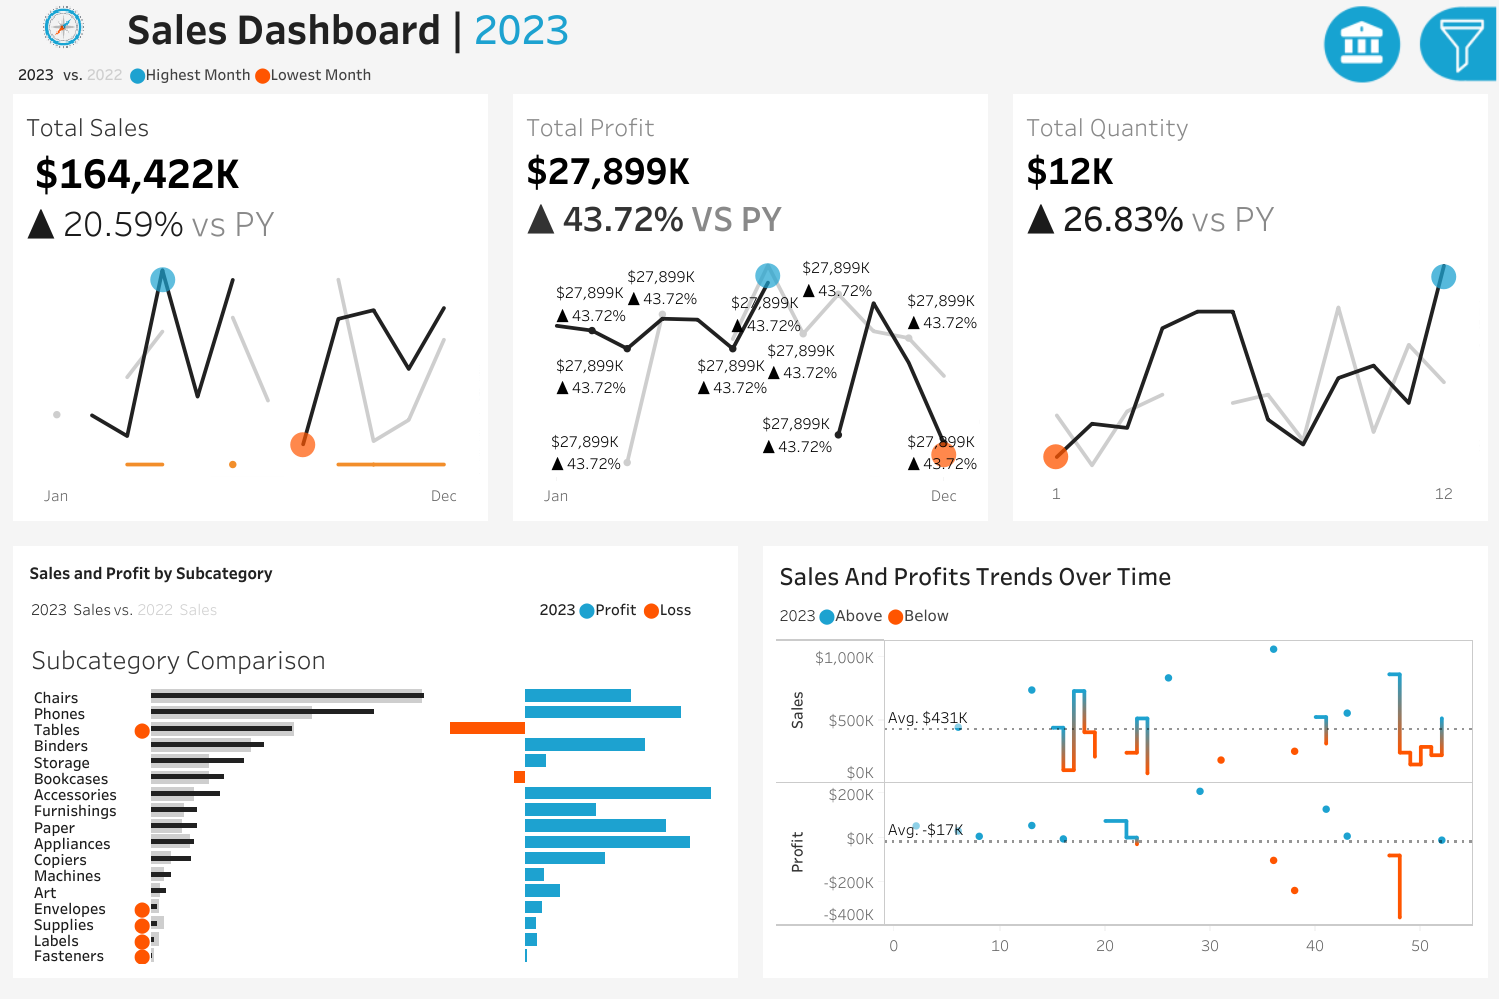

Layout of this report page (visuals, bound fields, positions):
{"tool":"tableau","page":{"name":"Sales Dashboard","canvas":[1200,800],"ordinal":0},"visuals":[{"type":"image","param":"Image/Icon - Logo.png","box":[6,0,89,43]},{"type":"text","box":[95,0,1105,43]},{"type":"dashboard-object","box":[1054,0,71,71]},{"type":"blank","box":[992,11,206,63]},{"type":"worksheet","title":"Legend KPI","mark":"Automatic","box":[6,43,1194,31.5]},{"type":"text","box":[992,74,206,63]},{"type":"worksheet","title":"KPI for total_sales","mark":"Automatic","rows":["Calculation_810647934035357708"],"cols":["Order Date"],"box":[0,75,400,352]},{"type":"worksheet","title":"KPI for total_profit","mark":"Automatic","rows":["Calculation_810647934354657306"],"cols":["Order Date"],"box":[400,75,400,352]},{"type":"worksheet","title":"KPI for total_quantity","mark":"Line","rows":["Calculation_810647934377652257"],"cols":["Order Date"],"box":[800,75,400,352]},{"type":"parameter","param":"[Parameters].[Parameter 1]","box":[992,137,206,63]},{"type":"blank","box":[992,200,206,63]},{"type":"text","box":[992,263,206,63]},{"type":"filter","title":"KPI for total_sales","param":"[federated.0kixfwr1o70lx01gtnfjl1a0li92].[none:Category:nk]","box":[992,326,206,63]},{"type":"filter","title":"KPI for total_sales","param":"[federated.0kixfwr1o70lx01gtnfjl1a0li92].[none:Sub-Category:nk]","box":[992,389,206,63]},{"type":"text","box":[17,444,566,31]},{"type":"text","box":[617,444,566,32]},{"type":"blank","box":[992,452,206,63]},{"type":"worksheet","title":"Legend Subcategory","mark":"Automatic","box":[17,475,408,32]},{"type":"text","box":[425,475,158,32]},{"type":"text","box":[617,476,566,32]},{"type":"worksheet","title":"Subcategory Comparison","mark":"Bar","rows":["Sub-Category","Calculation_810647934389022755"],"cols":["CYSales (copy)_810647934028398601","Calculation_810647934027689992","Calculation_810647934348013590"],"box":[17,507,566,267.9]},{"type":"worksheet","title":"Weekly Trends","mark":"Automatic","rows":["Calculation_810647934027689992","Calculation_810647934348013590"],"cols":["Order Date"],"box":[617,508,566,267]},{"type":"text","box":[992,515,206,63]},{"type":"filter","title":"KPI for total_sales","param":"[federated.0kixfwr1o70lx01gtnfjl1a0li92].[none:Region:nk]","box":[992,578,206,63]},{"type":"filter","title":"KPI for total_sales","param":"[federated.0kixfwr1o70lx01gtnfjl1a0li92].[none:State:nk]","box":[992,641,206,62]},{"type":"filter","title":"KPI for total_sales","param":"[federated.0kixfwr1o70lx01gtnfjl1a0li92].[none:City:nk]","box":[992,703,206,62]}]}

Visuals, with their boxes in screenshot pixels (x1, y1, x2, y2), scaled from the page's 1200x800 canvas onto the 1499x999 screenshot:
image: [x1=7, y1=0, x2=119, y2=54]
text: [x1=119, y1=0, x2=1498, y2=54]
dashboard-object: [x1=1317, y1=0, x2=1405, y2=89]
blank: [x1=1239, y1=14, x2=1497, y2=92]
"Legend KPI" worksheet: [x1=7, y1=54, x2=1498, y2=93]
text: [x1=1239, y1=92, x2=1497, y2=171]
"KPI for total_sales" worksheet: [x1=0, y1=94, x2=500, y2=533]
"KPI for total_profit" worksheet: [x1=500, y1=94, x2=999, y2=533]
"KPI for total_quantity" worksheet (Line marks): [x1=999, y1=94, x2=1498, y2=533]
parameter: [x1=1239, y1=171, x2=1497, y2=250]
blank: [x1=1239, y1=250, x2=1497, y2=328]
text: [x1=1239, y1=328, x2=1497, y2=407]
"KPI for total_sales" filter: [x1=1239, y1=407, x2=1497, y2=486]
"KPI for total_sales" filter: [x1=1239, y1=486, x2=1497, y2=564]
text: [x1=21, y1=554, x2=728, y2=593]
text: [x1=771, y1=554, x2=1478, y2=594]
blank: [x1=1239, y1=564, x2=1497, y2=643]
"Legend Subcategory" worksheet: [x1=21, y1=593, x2=531, y2=633]
text: [x1=531, y1=593, x2=728, y2=633]
text: [x1=771, y1=594, x2=1478, y2=634]
"Subcategory Comparison" worksheet (Bar marks): [x1=21, y1=633, x2=728, y2=968]
"Weekly Trends" worksheet: [x1=771, y1=634, x2=1478, y2=968]
text: [x1=1239, y1=643, x2=1497, y2=722]
"KPI for total_sales" filter: [x1=1239, y1=722, x2=1497, y2=800]
"KPI for total_sales" filter: [x1=1239, y1=800, x2=1497, y2=878]
"KPI for total_sales" filter: [x1=1239, y1=878, x2=1497, y2=955]
